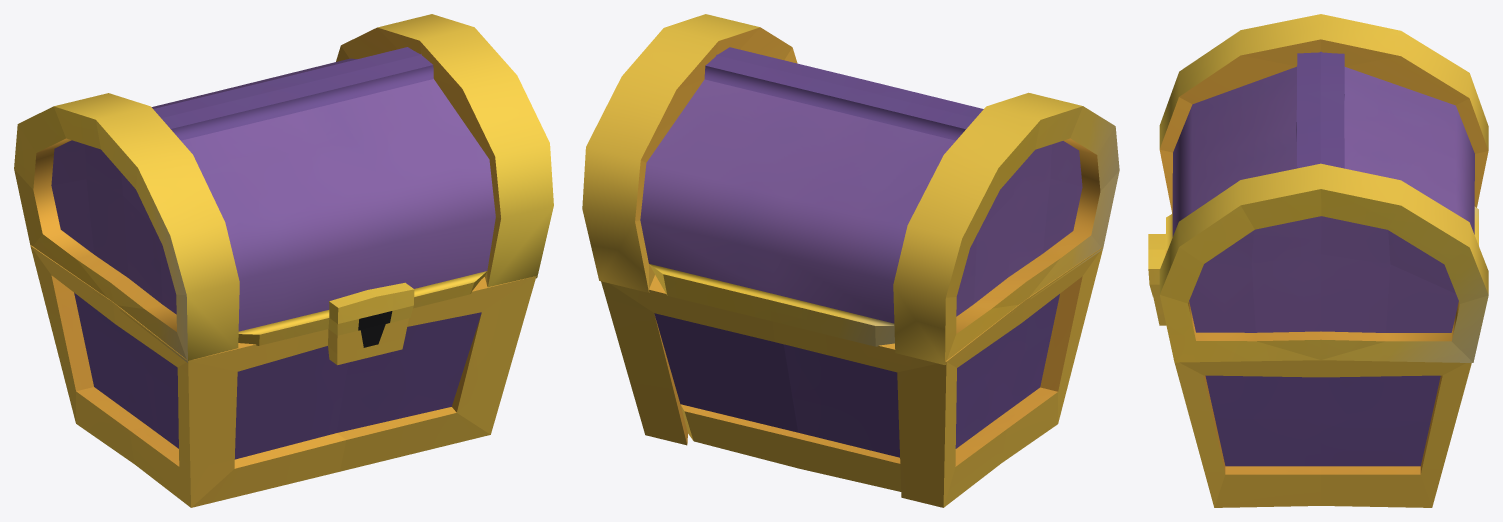
The model's file is chest hidden.fbx.
The picture shows the model from 3 angles, left to right: view 1: azimuth 30°, elevation 25°; view 2: azimuth 150°, elevation 25°; view 3: azimuth 270°, elevation 25°; orthographic projection. The views are drawn at different scales.
Visible parts, largest first — view 1: tophchest, bothchest; view 2: tophchest, bothchest; view 3: tophchest, bothchest.
Boxes of the visible parts, x1=… form: tophchest: x1=14, y1=14, x2=553, y2=362; bothchest: x1=30, y1=245, x2=536, y2=507; tophchest: x1=582, y1=14, x2=1119, y2=364; bothchest: x1=601, y1=247, x2=1102, y2=507; tophchest: x1=1148, y1=14, x2=1488, y2=362; bothchest: x1=1153, y1=296, x2=1471, y2=507.
Size of the model in its own units: 8.37 by 7.53 by 6.86.
Materials: 1 (1 with a texture image).
